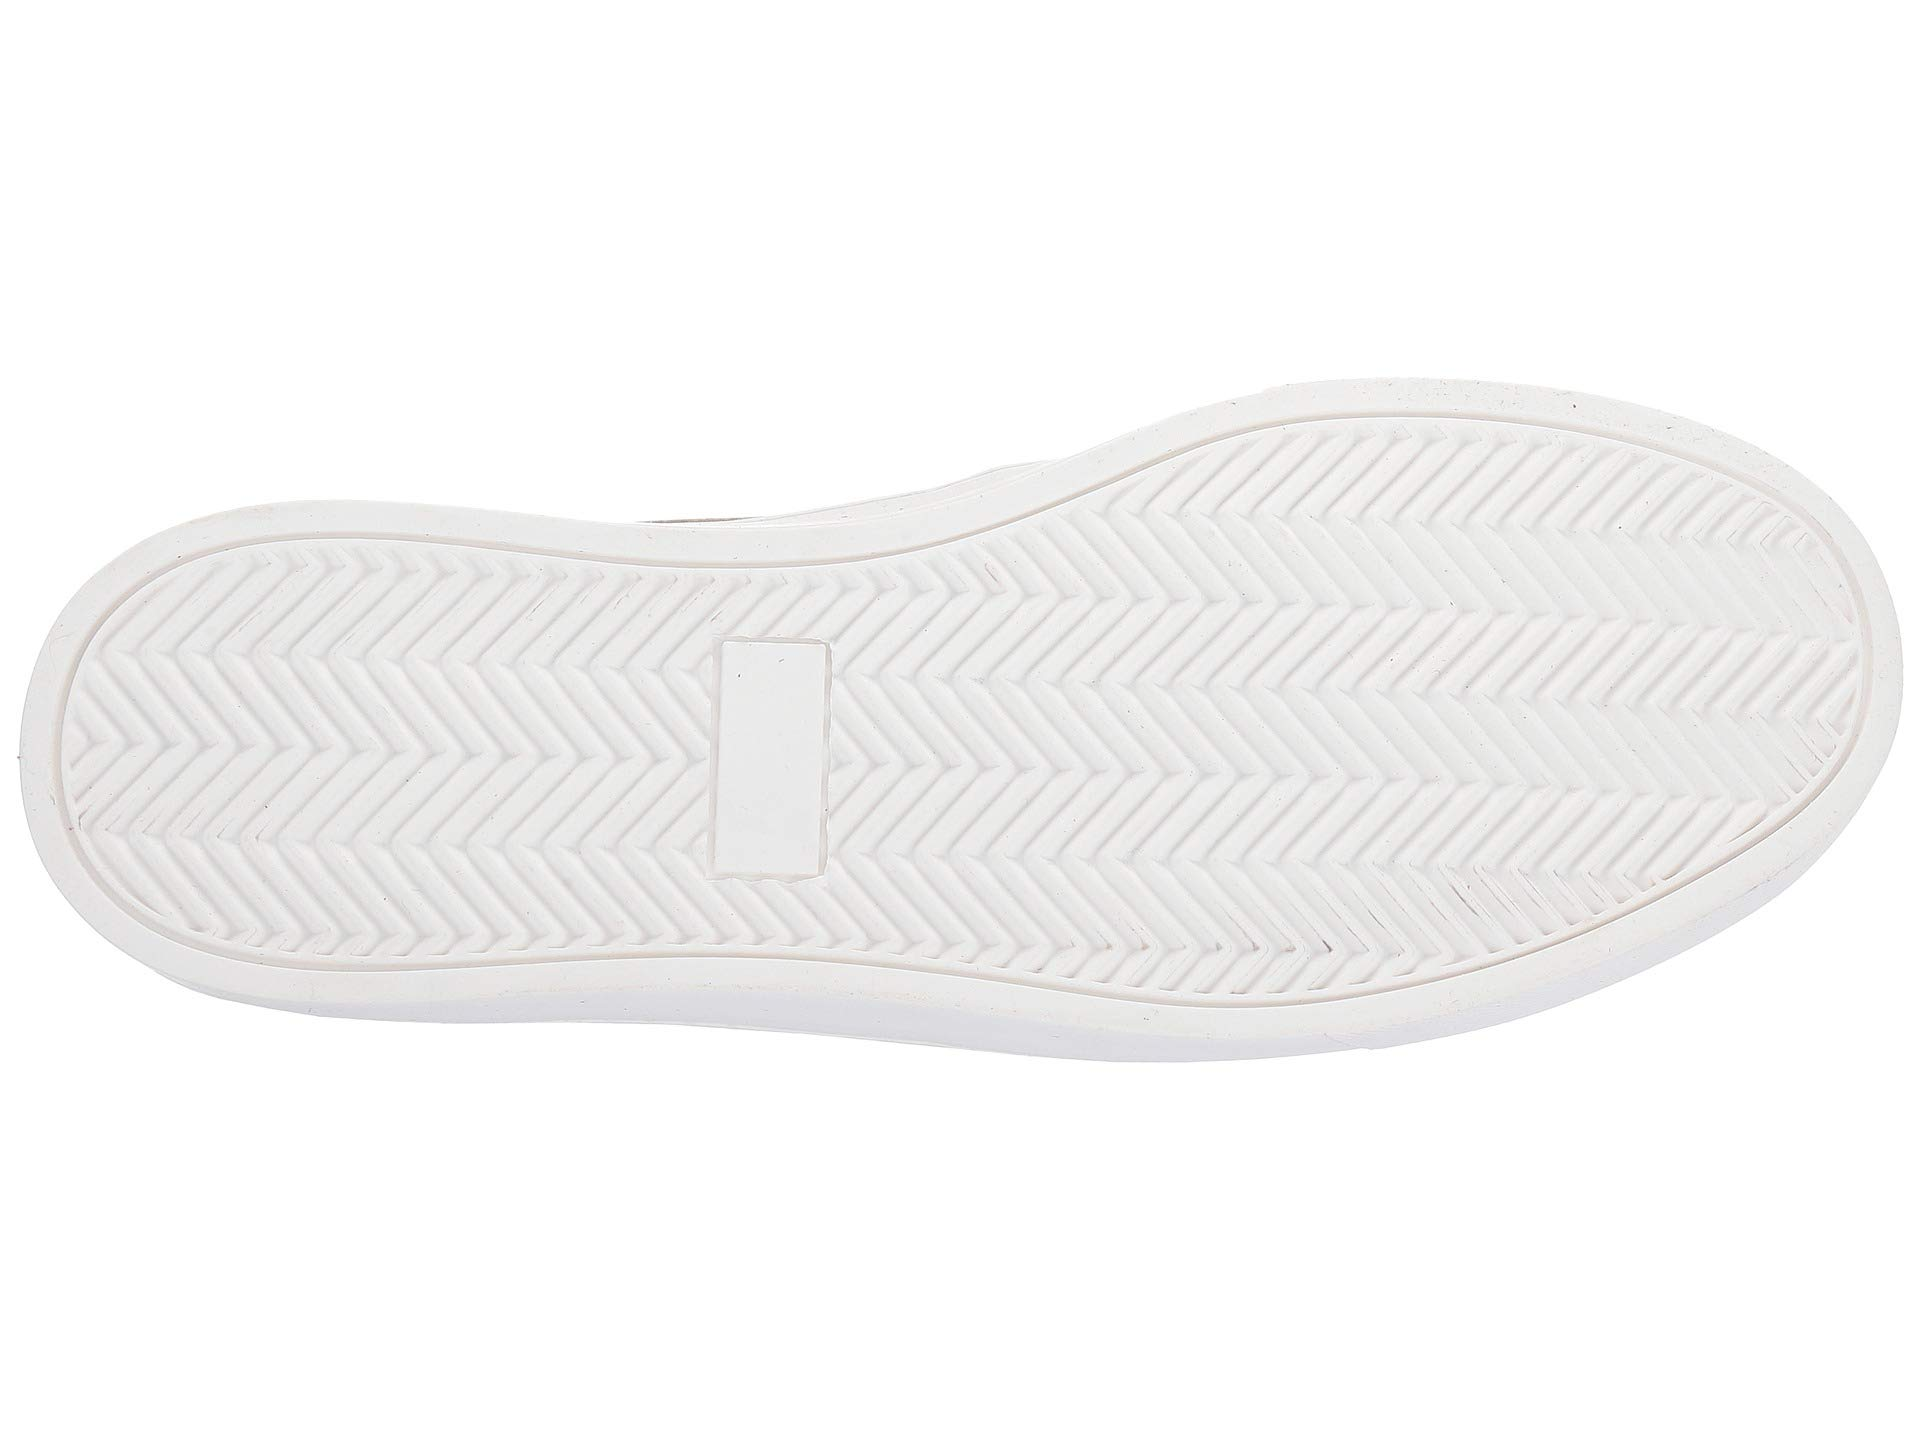chevron: (1064, 525, 1473, 920), (218, 614, 581, 929), (611, 599, 933, 948), (1489, 505, 1814, 808)
quad: (611, 599, 933, 948)
